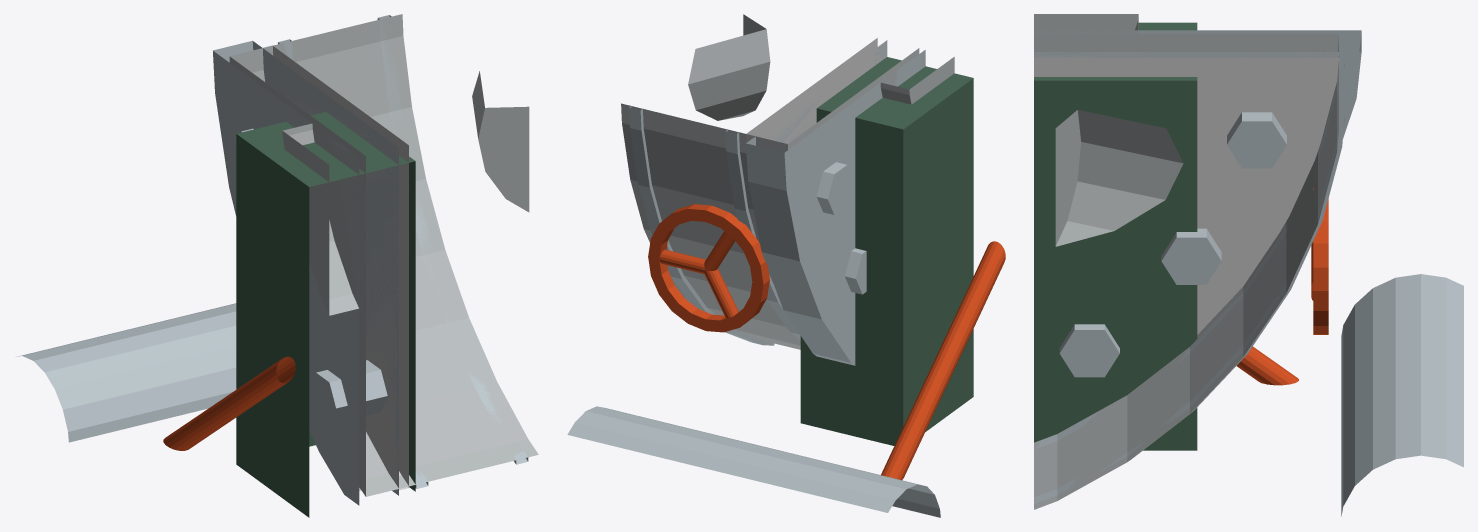
The model's file is cell_43.obj.
The picture shows the model from 3 angles, left to right: view 1: azimuth 30°, elevation 25°; view 2: azimuth 150°, elevation 25°; view 3: azimuth 270°, elevation 25°; orthographic projection. The views are drawn at different scales.
Bounding box in the file's own units: 1 × 1 × 1.
